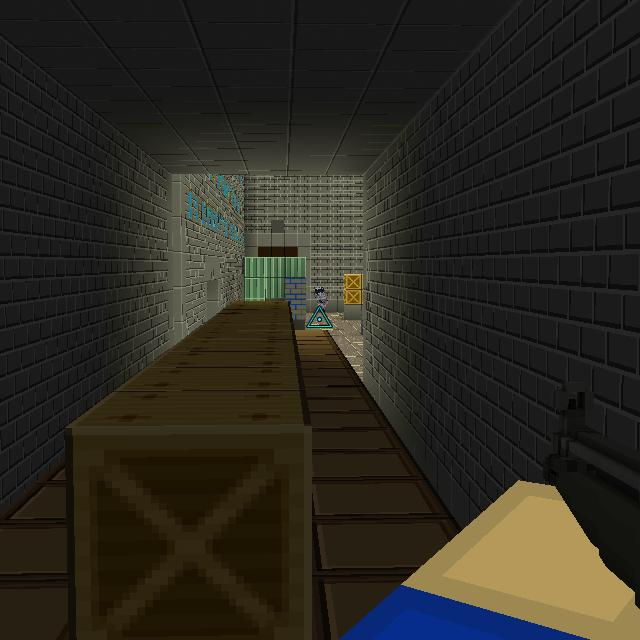enemy: (314, 286, 328, 313)
